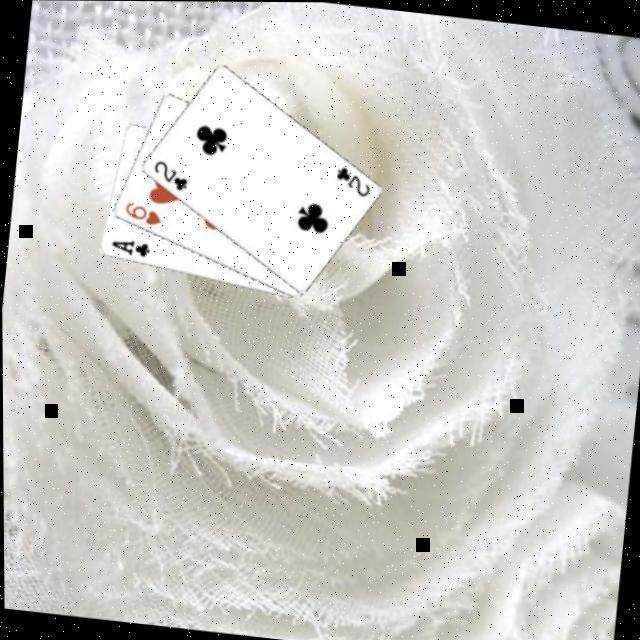2C: (332, 160, 376, 198), (150, 154, 193, 192)
6H: (122, 196, 166, 226)
AC: (108, 233, 154, 258)
